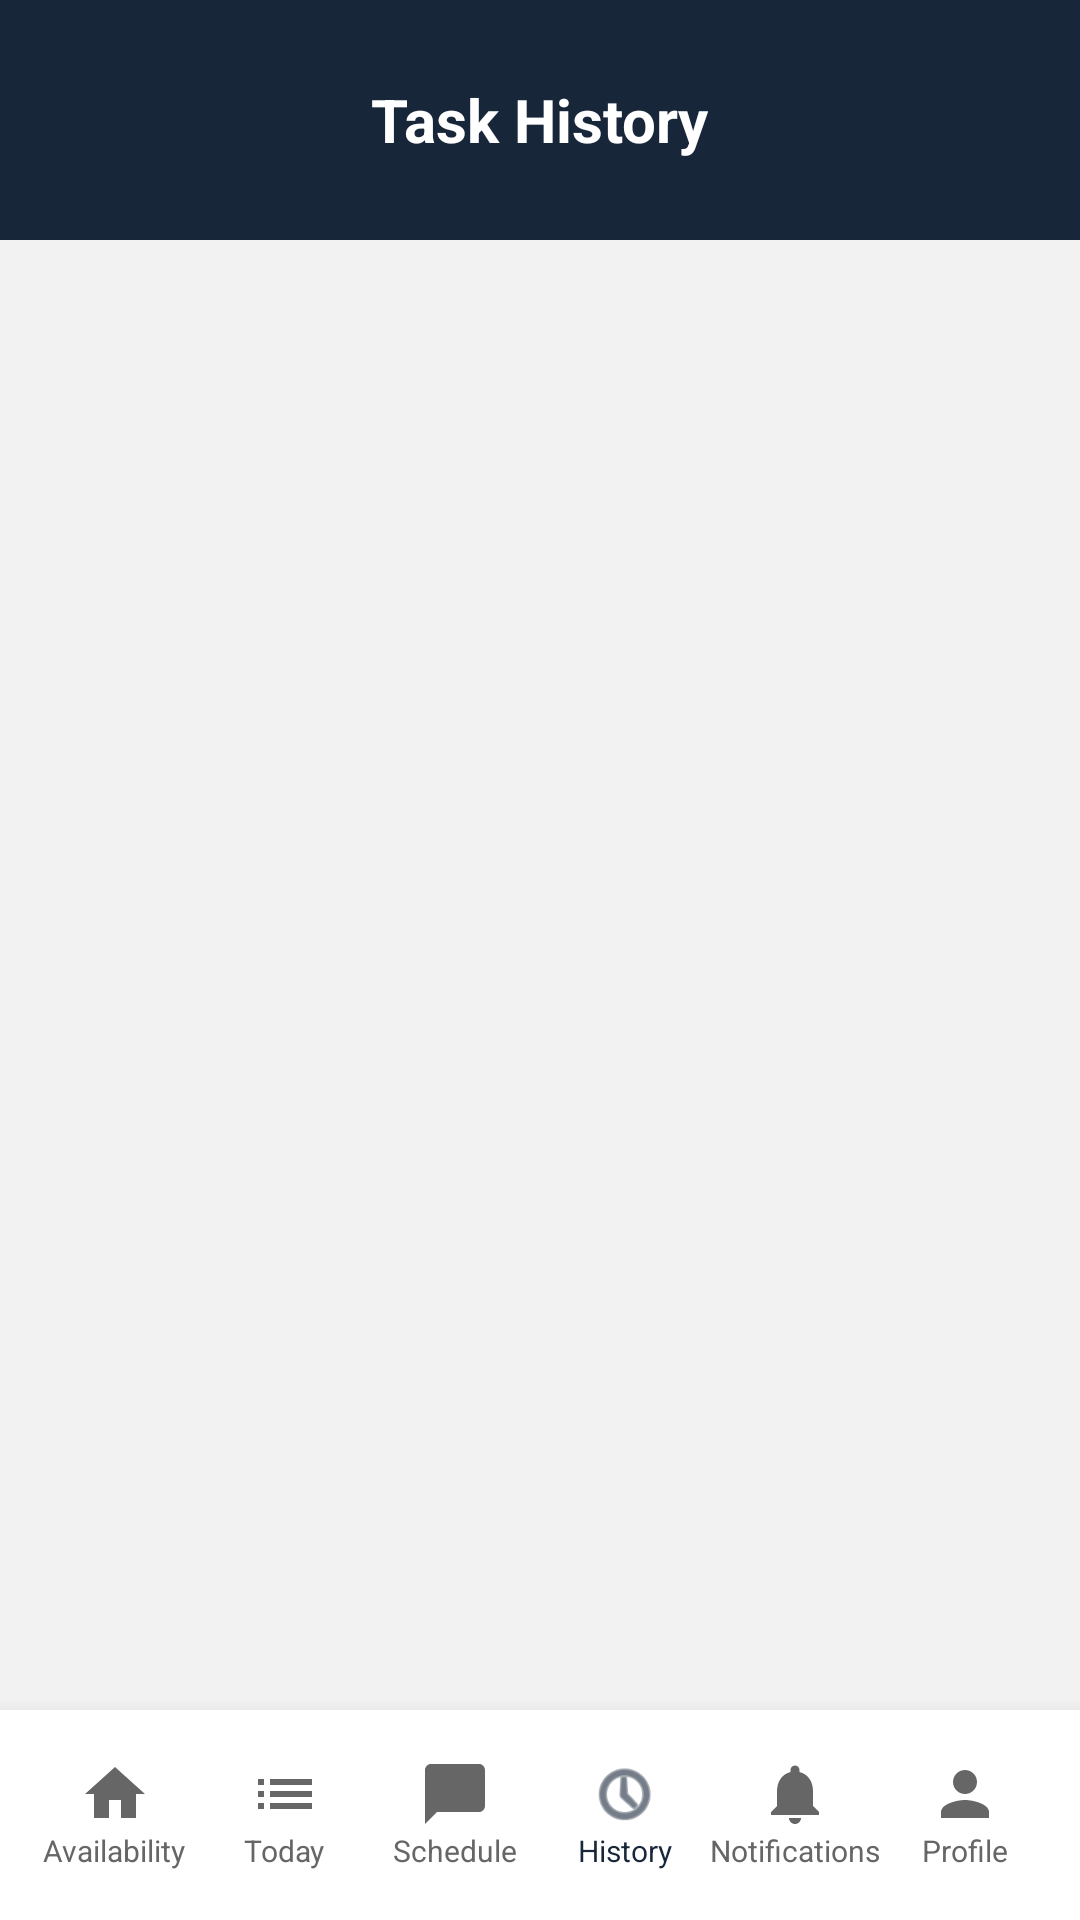

Screen size 1080x1920. Icon name, then its center in pixels as (x,y):
home: (115,1792)
messages: (455,1794)
